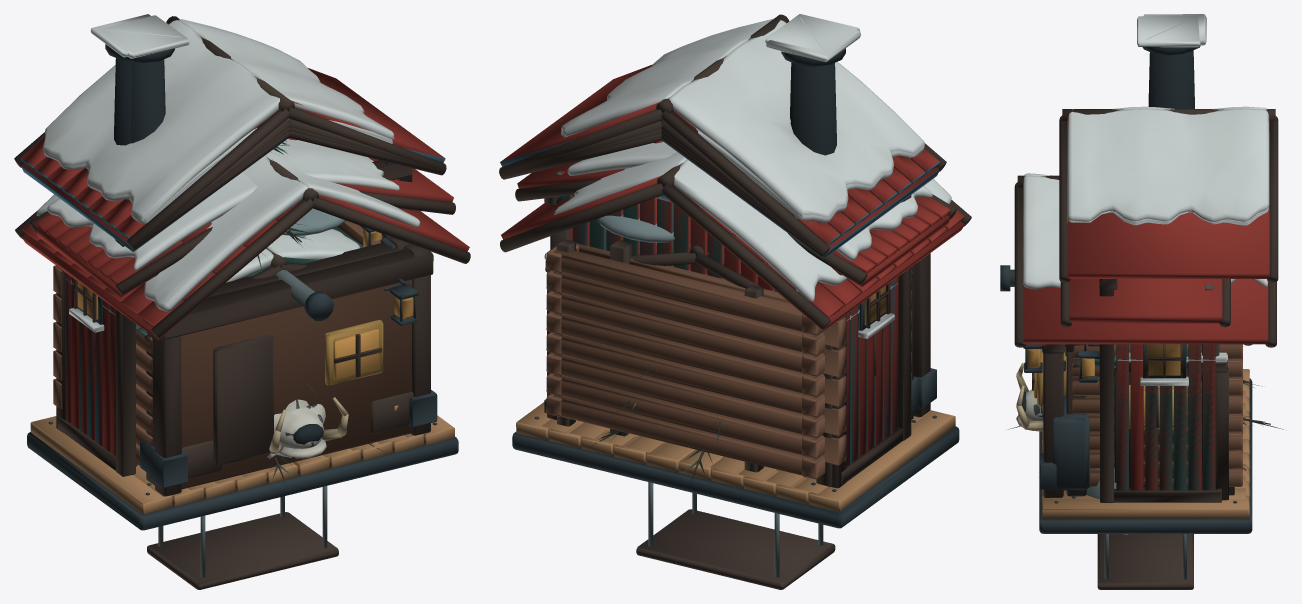
File: frostline-art.glb
3 views of the same model, side by side, from view 1: azimuth 30°, elevation 25°; view 2: azimuth 150°, elevation 25°; view 3: azimuth 270°, elevation 25° (orthographic). The views are drawn at different scales.
Parts seen in each view (by area): view 1: Cone.074, Cone.004, Cone.047, Cone.069, Cone.029, Cone.050, Cone.007, Cone.051, Cone.036, Cone.020, Cone.042, Cone (+5 smaller); view 2: Cone.074, Cone.004, Cone.047, Cone.029, Cone.069, Cone.050, Cone.036, Cone.007, Cone.020, Cone.024, Cone.043, Cone.051 (+3 smaller); view 3: Cone.004, Cone.047, Cone.036, Cone.069, Cone.029, Cone.074, Cone.050, Cone.007, Cone.043, Cone, Cone.051, Cone.024.
Part boxes in pixels (<box>): Cone.074: <box>55,224,437,504</box>; Cone.004: <box>14,16,446,250</box>; Cone.047: <box>27,139,458,530</box>; Cone.069: <box>15,149,470,340</box>; Cone.029: <box>53,14,412,485</box>; Cone.050: <box>147,486,338,589</box>; Cone.007: <box>58,15,412,485</box>; Cone.051: <box>140,221,413,485</box>; Cone.036: <box>57,160,411,484</box>; Cone.020: <box>15,131,445,251</box>; Cone.042: <box>135,227,363,344</box>; Cone: <box>269,397,348,453</box>; Cone.074: <box>542,246,936,501</box>; Cone.004: <box>499,14,946,254</box>; Cone.047: <box>512,142,959,528</box>; Cone.029: <box>544,17,915,488</box>; Cone.069: <box>500,152,971,331</box>; Cone.050: <box>636,482,835,589</box>; Cone.036: <box>544,170,915,484</box>; Cone.007: <box>544,14,898,472</box>; Cone.020: <box>500,133,944,258</box>; Cone.024: <box>500,99,937,251</box>; Cone.043: <box>544,195,903,484</box>; Cone.051: <box>576,243,918,478</box>; Cone.004: <box>1059,106,1278,278</box>; Cone.047: <box>1039,279,1252,533</box>; Cone.036: <box>1072,279,1228,502</box>; Cone.069: <box>1014,173,1276,347</box>; Cone.029: <box>1065,14,1228,502</box>; Cone.074: <box>1023,344,1246,498</box>; Cone.050: <box>1097,534,1193,589</box>; Cone.007: <box>1072,15,1234,497</box>; Cone.043: <box>1074,279,1227,501</box>; Cone: <box>1016,363,1043,431</box>; Cone.051: <box>1063,344,1090,496</box>; Cone.024: <box>1067,207,1268,223</box>.
Bounding box in the file's own units: 250 × 376 × 199.
